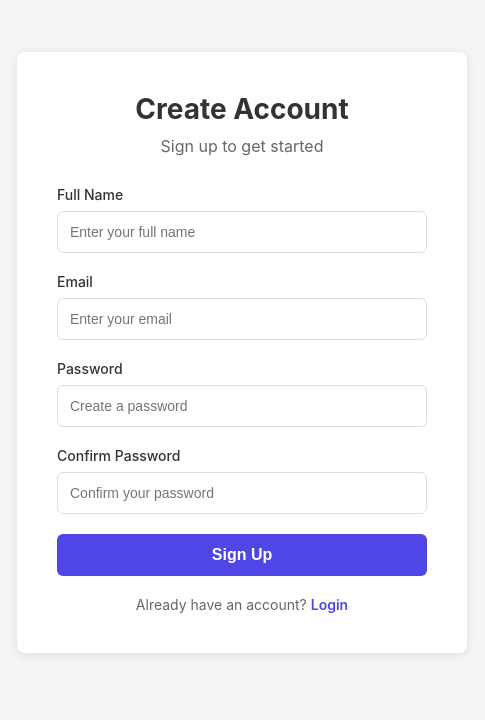
Signup Integration Tests › should complete full signup flow
This screenshot has width=485, height=720.
# Fill in form
Type "Test User" into the field labelled "Full Name" at (242, 232), box [57,210,427,252]
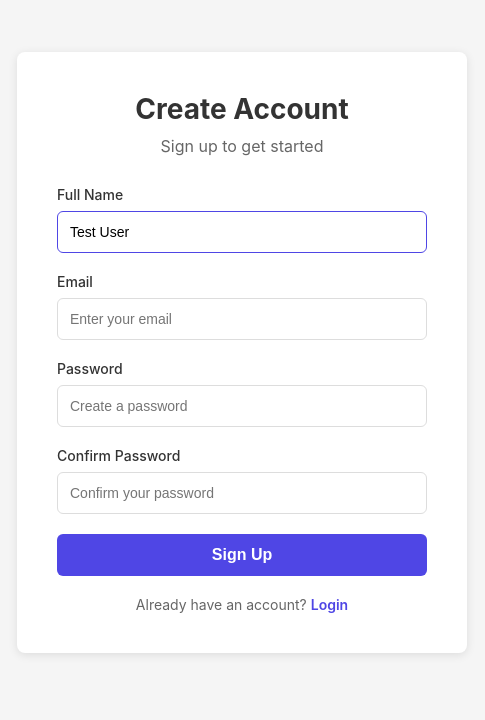
Type "newuser@example.com" into the field labelled "Email" at (242, 318), box [57,298,427,340]
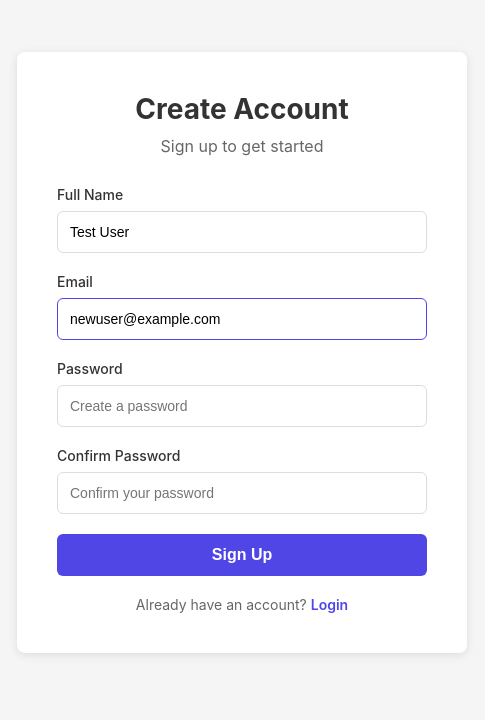
Type "SecurePass123" into the password field labelled "Password" at (242, 406), box [57,384,427,426]
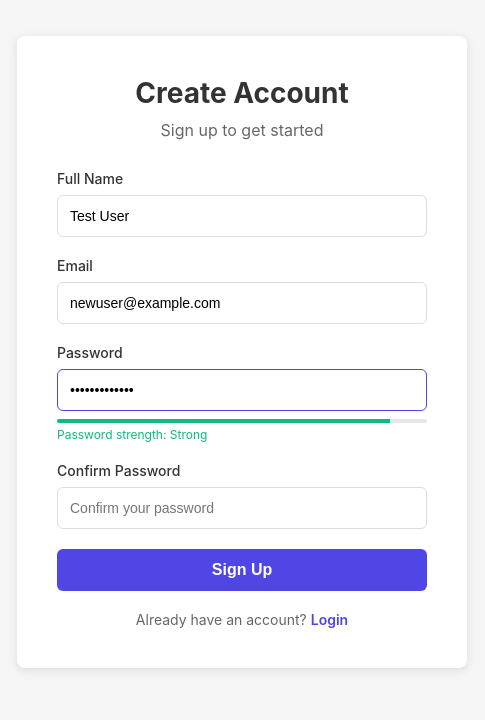
Type "SecurePass123" into the password field labelled "Confirm Password" at (242, 508), box [57,487,427,529]
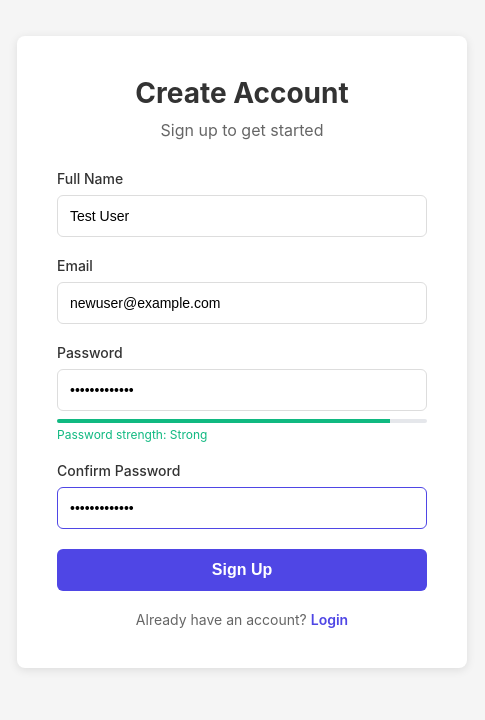
# Submit form
Click the button "Sign Up" at (242, 570), box [57,549,427,591]
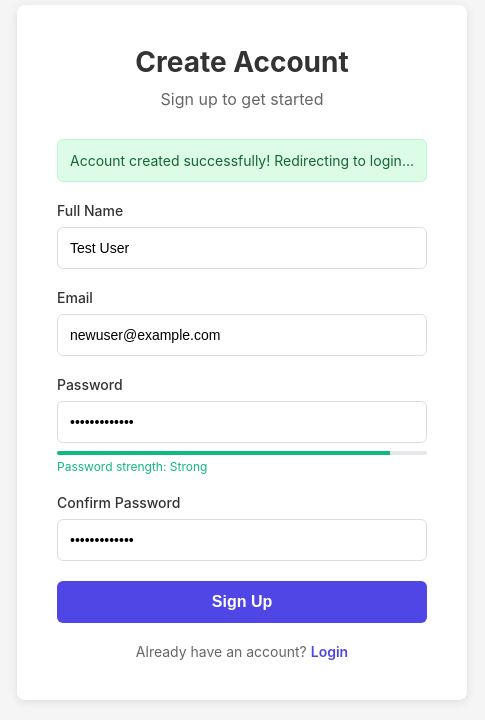
Expected: the text "Account created successfully! Redirecting to login..." is shown, [57,138,427,182]
